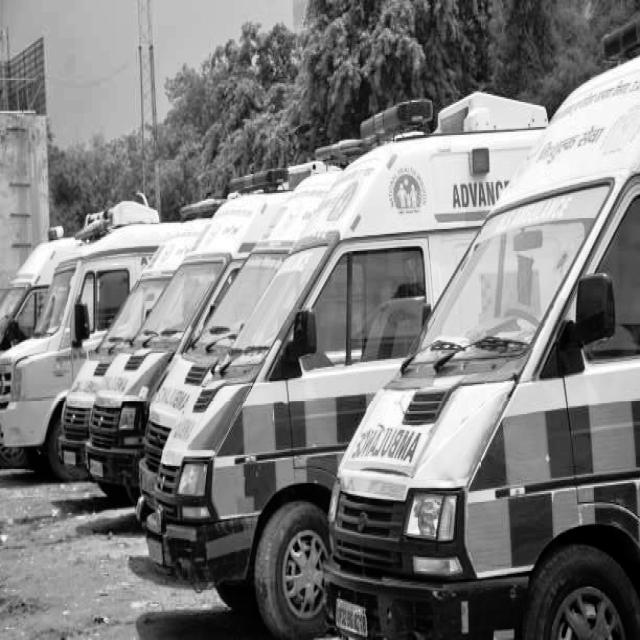Ambulance: (304, 391, 532, 624), (0, 200, 120, 498), (154, 384, 274, 537), (74, 368, 148, 488), (426, 160, 521, 248), (356, 91, 442, 163), (543, 111, 631, 178), (355, 410, 429, 487), (228, 154, 298, 207), (309, 132, 364, 179), (177, 202, 232, 228)
